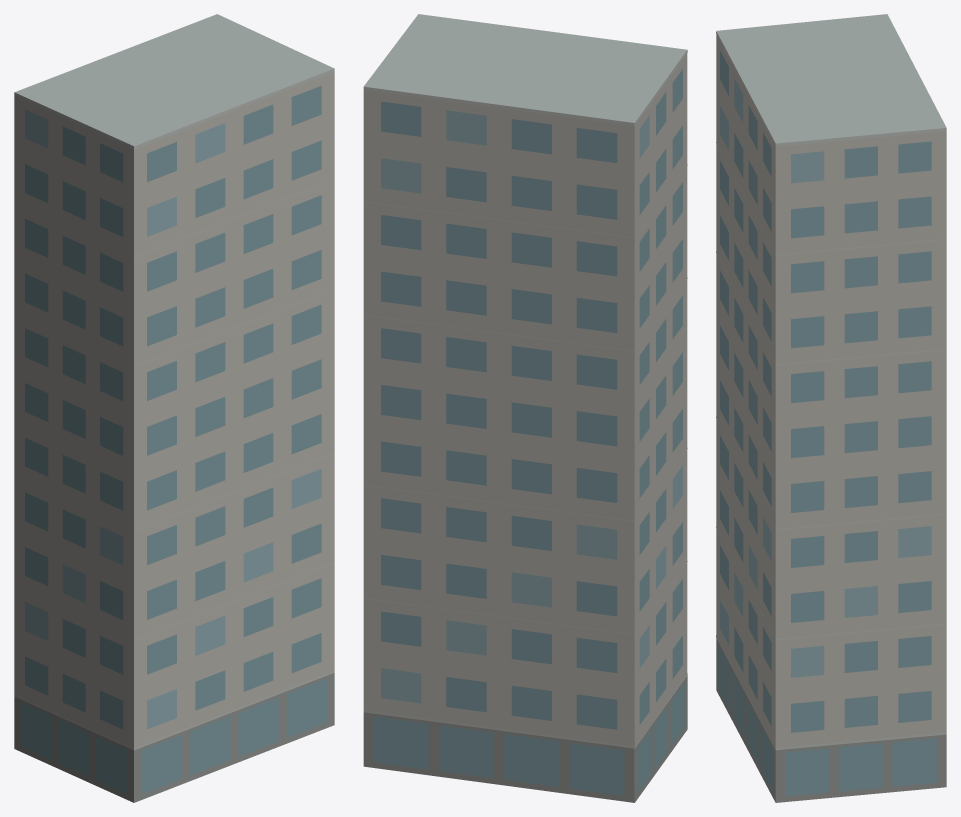
The model's file is survey-upis-32985977.glb.
3 renders of one model, left to right at view 1: azimuth 30°, elevation 25°; view 2: azimuth 150°, elevation 25°; view 3: azimuth 270°, elevation 25°, orthographic. The views are drawn at different scales.
Visible parts, largest first — view 1: survey-upis-32985977.tmp; view 2: survey-upis-32985977.tmp; view 3: survey-upis-32985977.tmp.
Boxes of the visible parts, x1,y1,x2,y2 form: survey-upis-32985977.tmp: (14,14,334,802); survey-upis-32985977.tmp: (363,14,687,802); survey-upis-32985977.tmp: (716,14,946,802).
Size of the model in its own units: 20.98 by 49.7 by 15.77.
